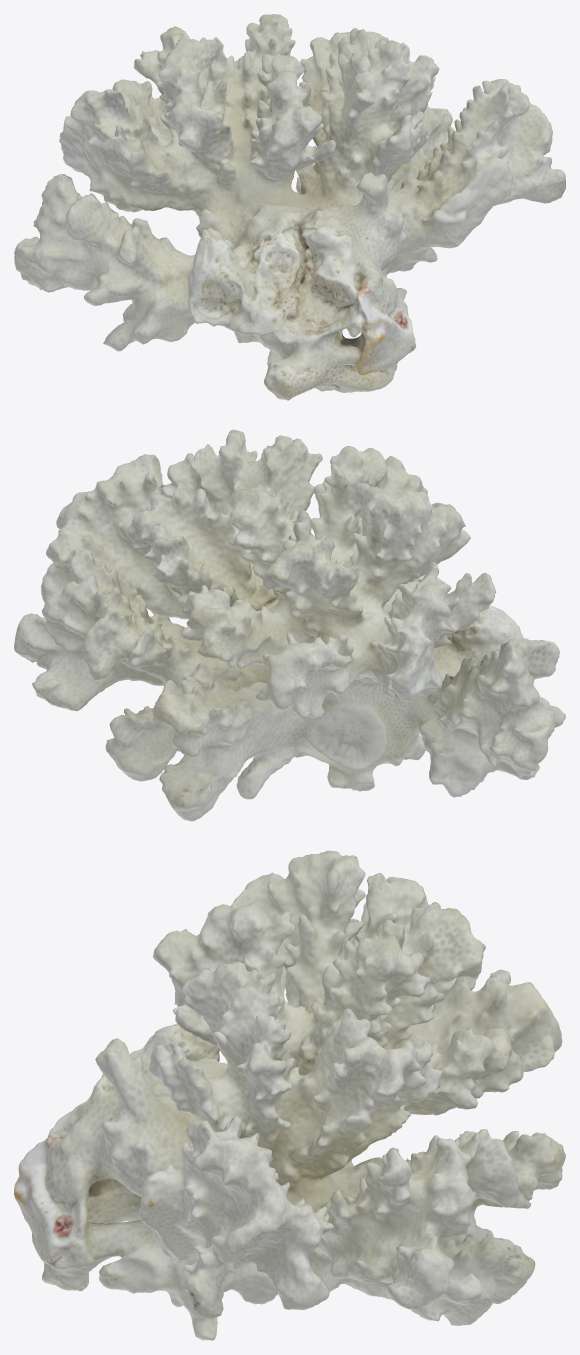
File: coral_v2.0.glb
3 views of the same model, one above another, from view 1: azimuth 30°, elevation 25°; view 2: azimuth 150°, elevation 25°; view 3: azimuth 270°, elevation 25° (orthographic). The views are drawn at different scales.
Parts seen in each view (by area): view 1: Object_3, Object_2, Object_4; view 2: Object_3, Object_2, Object_4; view 3: Object_2, Object_3, Object_4.
Boxes of the visible parts, x1,y1,x2,y2 form: Object_3: (81,14,463,347); Object_2: (14,28,565,400); Object_4: (59,79,442,342); Object_3: (141,446,556,797); Object_2: (14,429,565,821); Object_4: (175,479,515,784); Object_2: (14,881,565,1340); Object_3: (35,850,562,1288); Object_4: (49,876,540,1204).
Size of the model in its own units: 4.7 by 2.75 by 3.53.
1 material, 1 textured.
